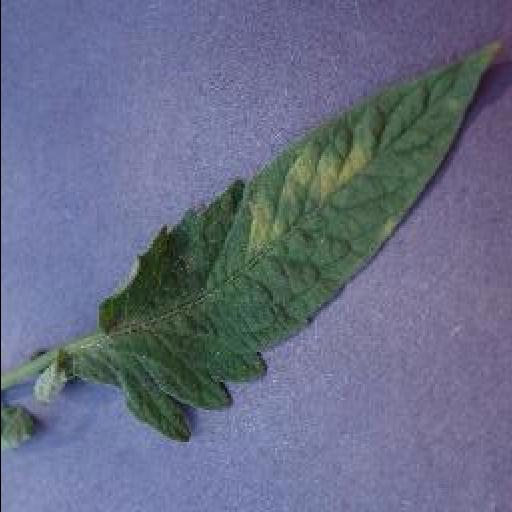disease_tomato: (70, 40, 506, 442)
